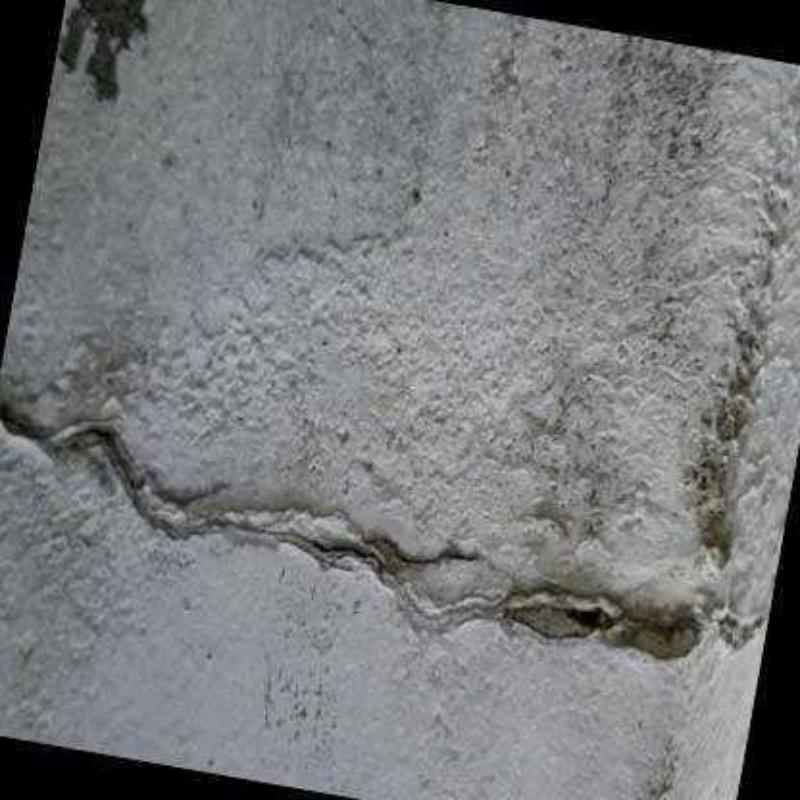pothole: (0, 390, 704, 663), (369, 533, 488, 567)
